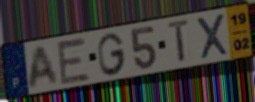5: (128, 25, 158, 71)
A: (27, 43, 61, 91)
E: (55, 37, 92, 87)
G: (96, 31, 128, 77)
T: (167, 17, 192, 66)
X: (194, 12, 231, 62)
